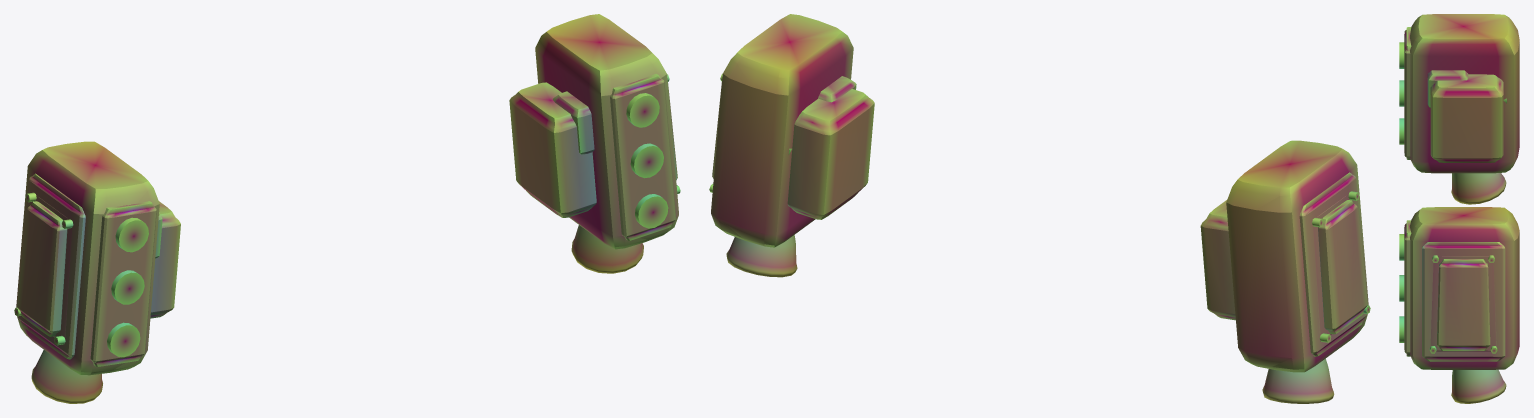
File: llm_gen_leg_thrusters_097_e56b9d.glb
3 renders of one model, left to right at view 1: azimuth 30°, elevation 25°; view 2: azimuth 150°, elevation 25°; view 3: azimuth 270°, elevation 25°, orthographic. The views are drawn at different scales.
Parts seen in each view (by area): view 1: leg_missile_hull_0_crimson_gloss_r, leg_missile_hull_0_crimson_gloss_l, adapter_calf_clamp_r, leg_pod_armor_cover_6_era_block_l, adapter_sub_missile_bezel_dark_1_adapter_dark_l, adapter_sub_missile_bezel_dark_1_adapter_dark_r, adapter_sub_side_frame_dark_5_adapter_dark_l, leg_ankle_bell_7_vernier_bell_vernier_l, adapter_calf_clamp_l, leg_ankle_bell_7_vernier_bell_vernier_r, adapter_leg_knee_mount_dark_8_adapter_dark_r, leg_cell_top_2_adapter_dark_r (+5 smaller); view 2: leg_missile_hull_0_crimson_gloss_r, leg_missile_hull_0_crimson_gloss_l, adapter_calf_clamp_r, leg_pod_armor_cover_6_era_block_l, adapter_sub_side_frame_dark_5_adapter_dark_l, adapter_calf_clamp_l, leg_ankle_bell_7_vernier_bell_vernier_l, leg_ankle_bell_7_vernier_bell_vernier_r; view 3: leg_missile_hull_0_crimson_gloss_l, leg_missile_hull_0_crimson_gloss_r, adapter_calf_clamp_l, leg_pod_armor_cover_6_era_block_r, adapter_sub_side_frame_dark_5_adapter_dark_r, leg_ankle_bell_7_vernier_bell_vernier_r, leg_ankle_bell_7_vernier_bell_vernier_l, adapter_sub_missile_bezel_dark_1_adapter_dark_r, adapter_sub_missile_bezel_dark_1_adapter_dark_l, adapter_leg_knee_mount_dark_8_adapter_dark_l, leg_cell_top_2_adapter_dark_r, leg_cell_top_2_adapter_dark_l (+4 smaller).
Part boxes in pixels (x1,y1,x2,y2): leg_missile_hull_0_crimson_gloss_r: (535, 14, 678, 249); leg_missile_hull_0_crimson_gloss_l: (16, 141, 159, 375); adapter_calf_clamp_r: (509, 82, 596, 217); leg_pod_armor_cover_6_era_block_l: (14, 192, 73, 345); adapter_sub_missile_bezel_dark_1_adapter_dark_l: (90, 201, 156, 366); adapter_sub_missile_bezel_dark_1_adapter_dark_r: (610, 73, 676, 240); adapter_sub_side_frame_dark_5_adapter_dark_l: (17, 173, 85, 359); leg_ankle_bell_7_vernier_bell_vernier_l: (31, 350, 102, 403); adapter_calf_clamp_l: (150, 201, 180, 318); leg_ankle_bell_7_vernier_bell_vernier_r: (571, 225, 643, 273); adapter_leg_knee_mount_dark_8_adapter_dark_r: (553, 91, 594, 154); leg_cell_top_2_adapter_dark_r: (626, 93, 659, 127); leg_missile_hull_0_crimson_gloss_r: (711, 14, 853, 247); leg_missile_hull_0_crimson_gloss_l: (1226, 140, 1368, 372); adapter_calf_clamp_r: (787, 89, 874, 219); leg_pod_armor_cover_6_era_block_l: (1312, 191, 1370, 342); adapter_sub_side_frame_dark_5_adapter_dark_l: (1299, 172, 1367, 356); adapter_calf_clamp_l: (1200, 200, 1235, 320); leg_ankle_bell_7_vernier_bell_vernier_l: (1262, 358, 1334, 403); leg_ankle_bell_7_vernier_bell_vernier_r: (726, 235, 797, 277); leg_missile_hull_0_crimson_gloss_l: (1410, 14, 1519, 173); leg_missile_hull_0_crimson_gloss_r: (1410, 207, 1519, 369); adapter_calf_clamp_l: (1430, 74, 1503, 162); leg_pod_armor_cover_6_era_block_r: (1429, 255, 1497, 353); adapter_sub_side_frame_dark_5_adapter_dark_r: (1422, 242, 1505, 361); leg_ankle_bell_7_vernier_bell_vernier_r: (1451, 369, 1506, 403); leg_ankle_bell_7_vernier_bell_vernier_l: (1451, 173, 1506, 204); adapter_sub_missile_bezel_dark_1_adapter_dark_r: (1404, 220, 1411, 356); adapter_sub_missile_bezel_dark_1_adapter_dark_l: (1404, 27, 1411, 159); adapter_leg_knee_mount_dark_8_adapter_dark_l: (1427, 70, 1468, 107); leg_cell_top_2_adapter_dark_r: (1399, 234, 1404, 260); leg_cell_top_2_adapter_dark_l: (1399, 42, 1404, 68).
Bounding box in the file's own units: 84.06 × 29.61 × 18.14.
